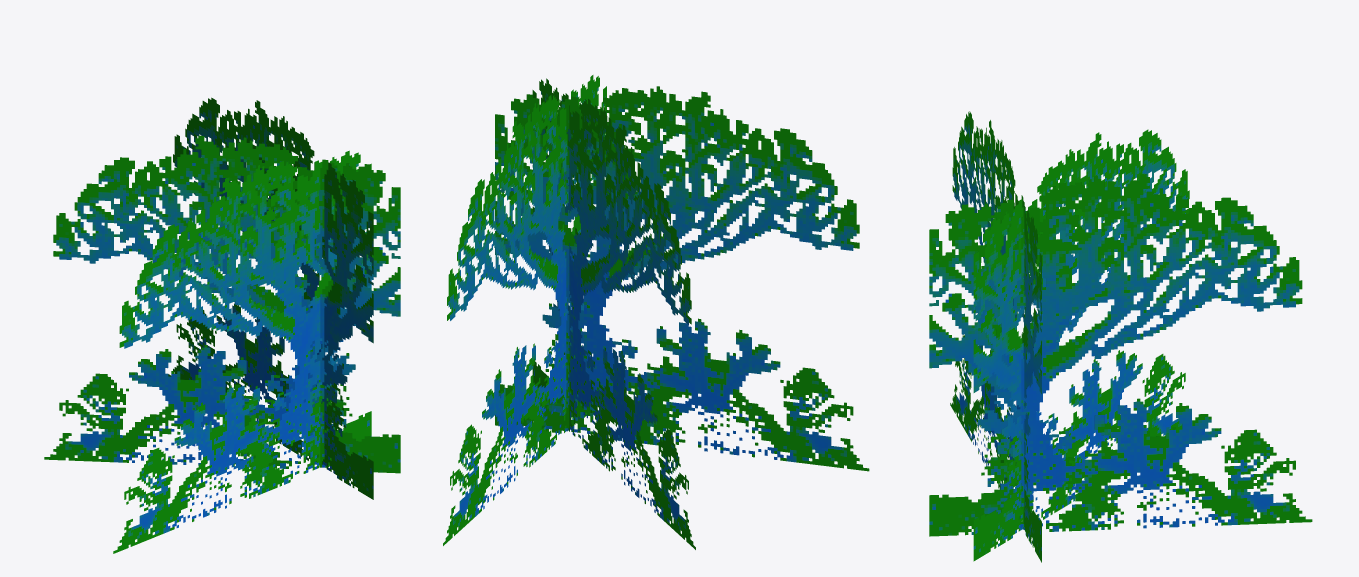
The model's file is Branch Coral 2.fbx.
3 renders of one model, left to right at view 1: azimuth 30°, elevation 25°; view 2: azimuth 150°, elevation 25°; view 3: azimuth 270°, elevation 25°, orthographic. The views are drawn at different scales.
Parts seen in each view (by area): view 1: pink branching coral png.003; view 2: pink branching coral png.003; view 3: pink branching coral png.003.
Boxes of the visible parts, x1,y1,x2,y2 form: pink branching coral png.003: (44, 97, 400, 553); pink branching coral png.003: (443, 75, 869, 549); pink branching coral png.003: (929, 111, 1312, 562).
Bounding box in the file's own units: 24.37 × 25.09 × 24.99.
Materials: 1 (1 with a texture image).
